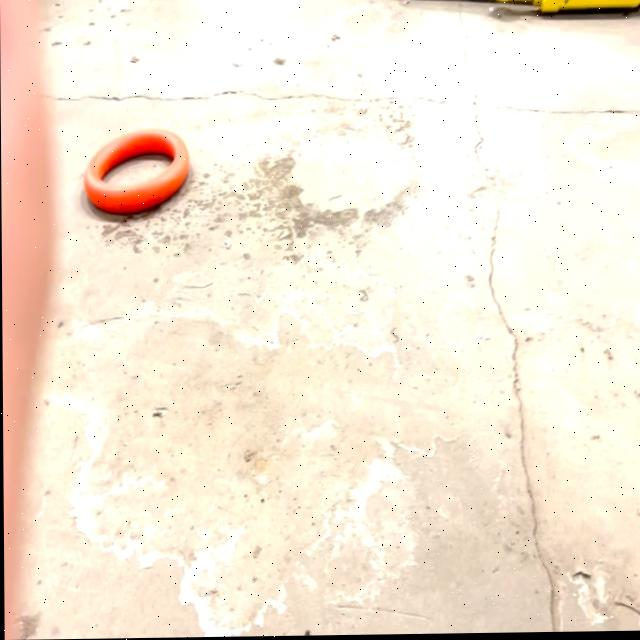note: (85, 112, 196, 208)
